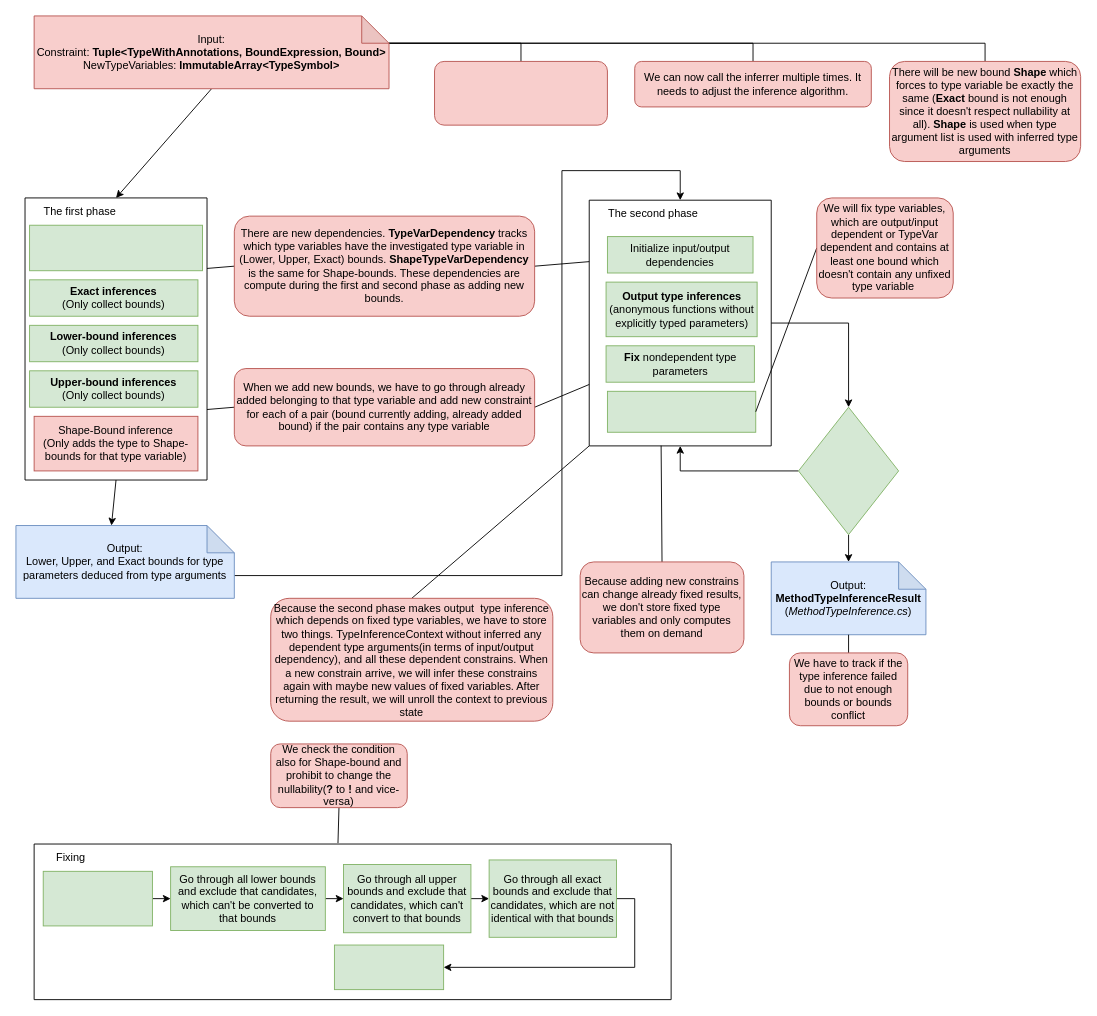
This 1097x1016 diagram has some shape labels left out. Each missing label, with the centre of its shape:
All type parameters are inferred or no progress was made: the point at 848,470
Collect all candidates from bounds of the type parameter: the point at 97,898
Determine the one candidate if you can: the point at 389,967
Explicitly parameter type inferences (Typed anonymous functions): the point at 115,247
Fix dependent type parameters which has at least one bound: the point at 681,411
Type variables would be TypeParameterSymbol or InferredTypeArgumentSymbol: the point at 520,93
